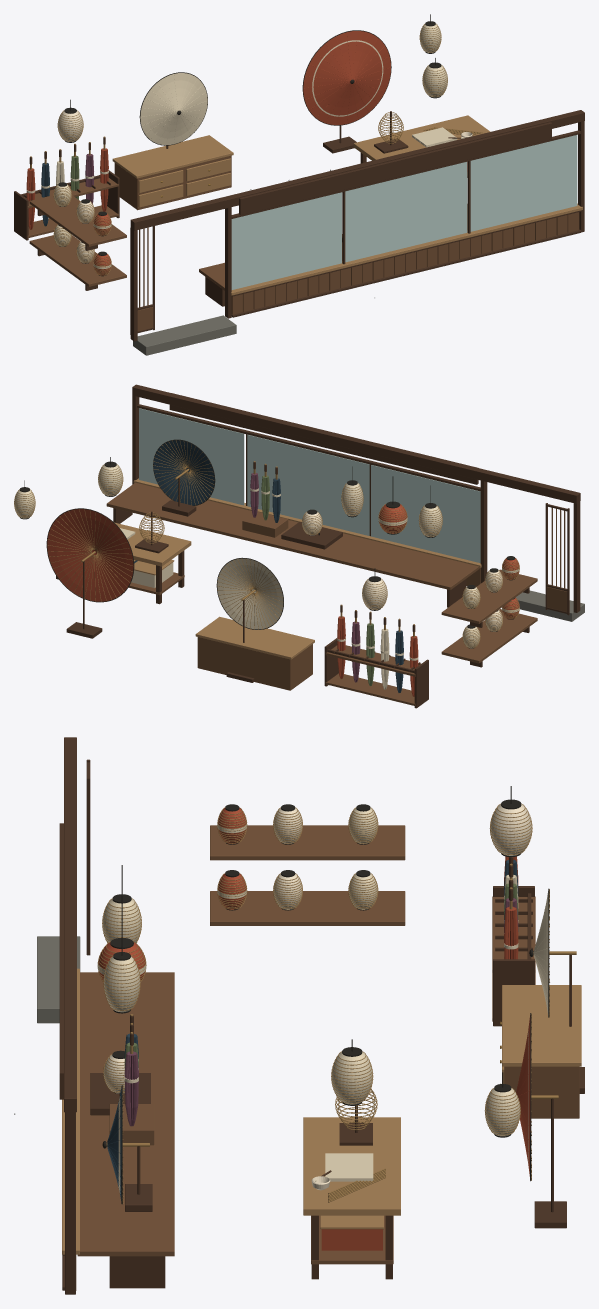
Rendered from japan_kit36_lanterns_umbrellas1.fbx.
3 views of the same model, one above another, from view 1: azimuth 30°, elevation 25°; view 2: azimuth 150°, elevation 25°; view 3: azimuth 270°, elevation 25° (orthographic). The views are drawn at different scales.
Parts seen in each view (by area): view 1: C1_Glazing1_Glass, C1_Glazing0_Glass, C1_Glazing2_Glass, C1_BaseBoards_Cedar, C1_BackUmbrellaB_Rust, C1_MainSign_Walnut, C1_BackUmbrellaA_Paper, C1_Header_Walnut, C1_CabinetTop_Hinoki, C1_Drawers_Hinoki, C1_FrontPosts_Walnut, C1_WindowSill_Hinoki (+18 smaller); view 2: C1_WindowDeck_Cedar, C1_Glazing1_Glass, C1_Glazing0_Glass, C1_BackUmbrellaB_Rust, C1_Header_Walnut, C1_Glazing2_Glass, C1_StockCabinet_Cedar, C1_BackUmbrellaA_Paper, C1_WindowUmbrella_Indigo, C1_CabinetTop_Hinoki, C1_FrontPosts_Walnut, C1_MainSign_Walnut (+28 smaller); view 3: C1_WindowDeck_Cedar, C1_WorkTop_Hinoki, C1_CabinetTop_Hinoki, C1_LeftShelf1_Cedar, C1_LeftShelf0_Cedar, C1_Header_Walnut, C1_StockCabinet_Cedar, C1_Threshold_Stone, C1_BackRack_Walnut, C1_FrontPosts_Walnut, C1_DisplayLegs_Walnut, C1_Hanging1_Paper (+31 smaller).
Part boxes in pixels (<box>): C1_Glazing1_Glass: <box>345,162,467,262</box>; C1_Glazing0_Glass: <box>231,192,341,289</box>; C1_Glazing2_Glass: <box>470,135,577,231</box>; C1_BaseBoards_Cedar: <box>231,212,578,314</box>; C1_BackUmbrellaB_Rust: <box>303,31,390,125</box>; C1_MainSign_Walnut: <box>239,122,551,215</box>; C1_BackUmbrellaA_Paper: <box>140,73,207,145</box>; C1_Header_Walnut: <box>130,110,584,230</box>; C1_CabinetTop_Hinoki: <box>112,135,233,178</box>; C1_Drawers_Hinoki: <box>138,158,230,207</box>; C1_FrontPosts_Walnut: <box>130,121,584,341</box>; C1_WindowSill_Hinoki: <box>230,203,582,295</box>; C1_WindowDeck_Cedar: <box>106,482,479,590</box>; C1_Glazing1_Glass: <box>247,434,369,535</box>; C1_Glazing0_Glass: <box>371,465,480,562</box>; C1_BackUmbrellaB_Rust: <box>47,509,133,601</box>; C1_Header_Walnut: <box>132,384,580,503</box>; C1_Glazing2_Glass: <box>139,408,244,505</box>; C1_StockCabinet_Cedar: <box>197,637,312,690</box>; C1_BackUmbrellaA_Paper: <box>217,558,283,629</box>; C1_WindowUmbrella_Indigo: <box>153,440,214,505</box>; C1_CabinetTop_Hinoki: <box>195,616,314,659</box>; C1_FrontPosts_Walnut: <box>132,395,580,612</box>; C1_MainSign_Walnut: <box>169,393,478,484</box>; C1_WindowDeck_Cedar: <box>77,972,174,1256</box>; C1_WorkTop_Hinoki: <box>303,1117,400,1215</box>; C1_CabinetTop_Hinoki: <box>502,985,581,1066</box>; C1_LeftShelf1_Cedar: <box>210,825,405,860</box>; C1_LeftShelf0_Cedar: <box>210,891,405,925</box>; C1_Header_Walnut: <box>64,737,76,1112</box>; C1_StockCabinet_Cedar: <box>504,1066,579,1118</box>; C1_Threshold_Stone: <box>37,936,80,1023</box>; C1_BackRack_Walnut: <box>493,886,534,1026</box>; C1_FrontPosts_Walnut: <box>65,1107,75,1294</box>; C1_DisplayLegs_Walnut: <box>109,1256,165,1288</box>; C1_Hanging1_Paper: <box>331,1051,372,1104</box>.
Size of the model in its own units: 30.72 by 8.7 by 20.47.
